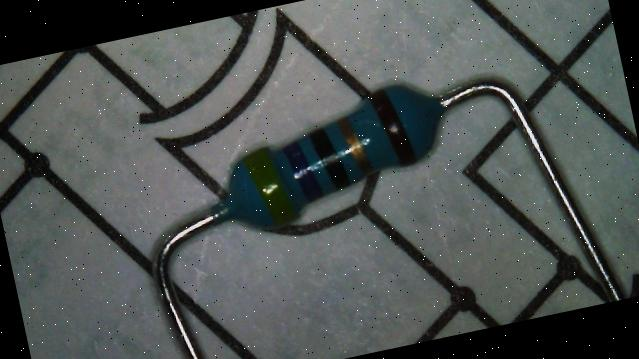black: (308, 124, 350, 191)
brown: (366, 84, 416, 168)
gold: (336, 114, 372, 177)
resistor: (192, 48, 468, 258)
violet: (282, 138, 323, 204)
yellow: (242, 145, 296, 229)
